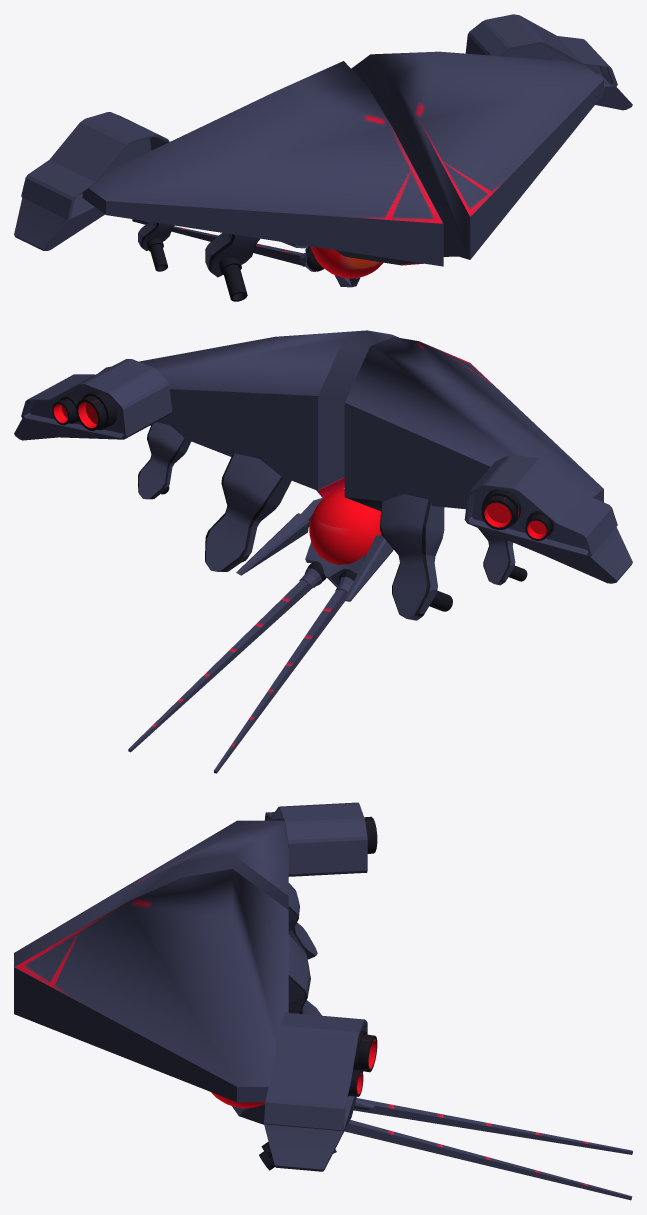
File: Cha_Enemy.fbx
3 renders of one model, top to bottom at view 1: azimuth 30°, elevation 25°; view 2: azimuth 150°, elevation 25°; view 3: azimuth 270°, elevation 25°, orthographic. The views are drawn at different scales.
Visible parts, largest first — view 1: ENEMY_UVed2; view 2: ENEMY_UVed2; view 3: ENEMY_UVed2.
Boxes of the visible parts, <box> form: ENEMY_UVed2: <box>14,14,632,301</box>; ENEMY_UVed2: <box>14,330,632,773</box>; ENEMY_UVed2: <box>14,802,632,1200</box>.
Bounding box in the file's own units: 63.34 × 28.83 × 51.43.
